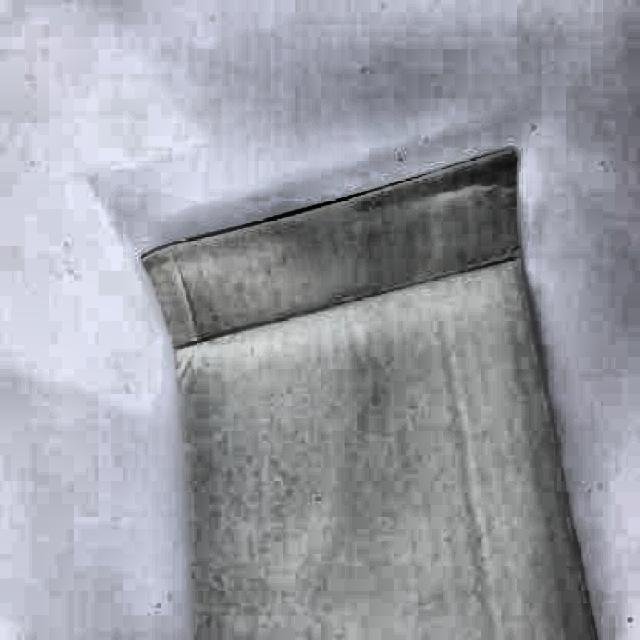Cardbox: (117, 143, 640, 640)
